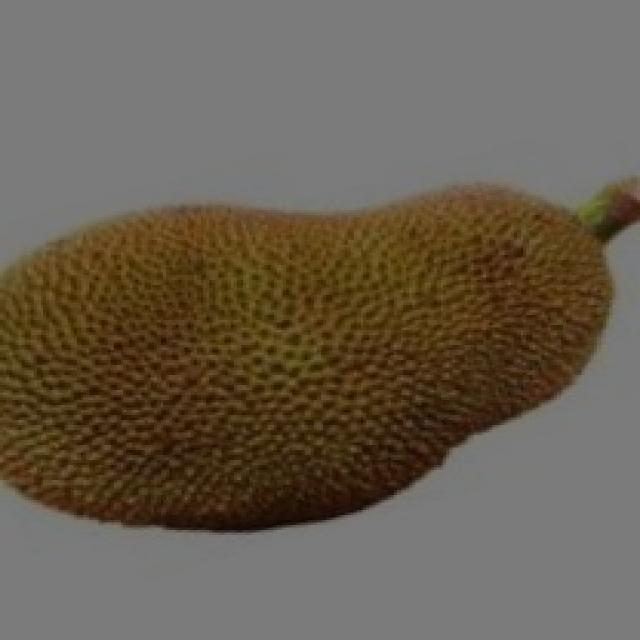Fruit: (0, 178, 403, 568), (237, 158, 634, 532)
